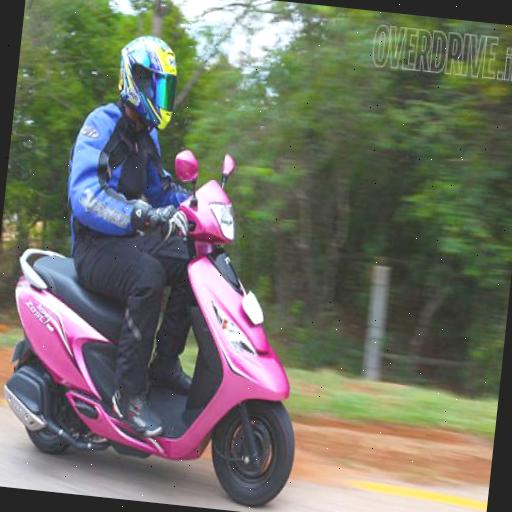helmet: (36, 4, 332, 496)
